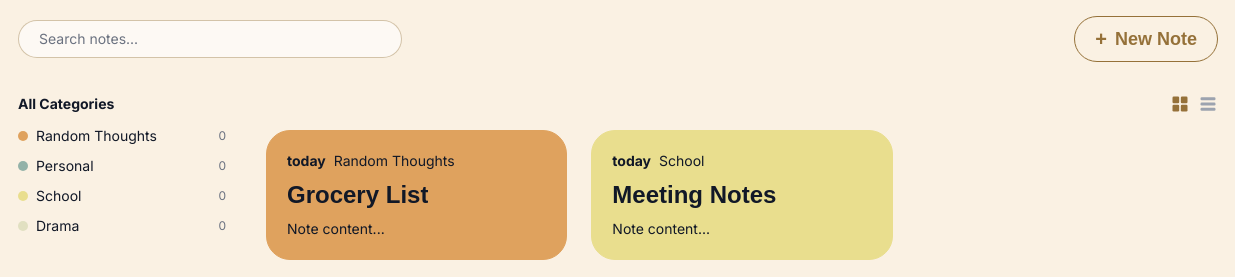
Scenario: NotesDashboard › filters the grid to only the selected category, and clears on All Categories
The image size is (1235, 277).
Click the button with aria-label "Filter by School" at (122, 196), box [18, 186, 226, 206]
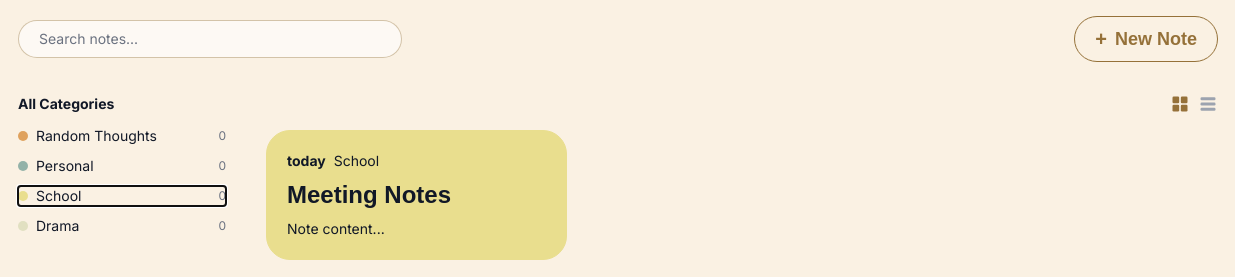
Check: the heading "Meeting Notes" is shown, box [287, 179, 451, 211]
Check: the button "Grocery List" is gone
Click the button "All Categories" at (66, 104), box [18, 94, 114, 114]
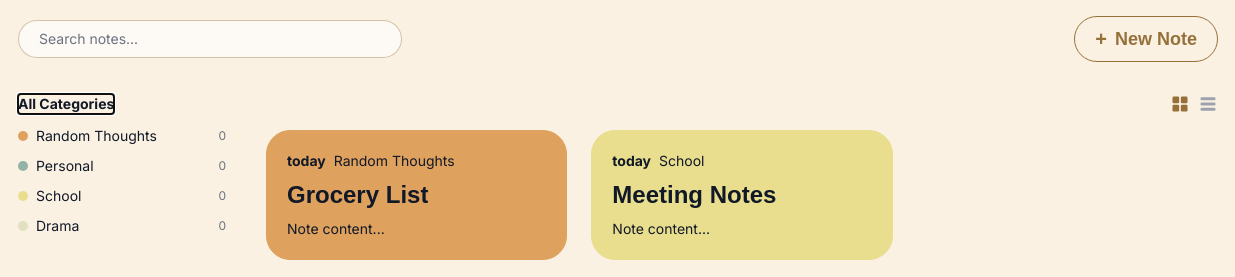
Check: the heading "Grocery List" is shown, box [287, 179, 428, 211]
